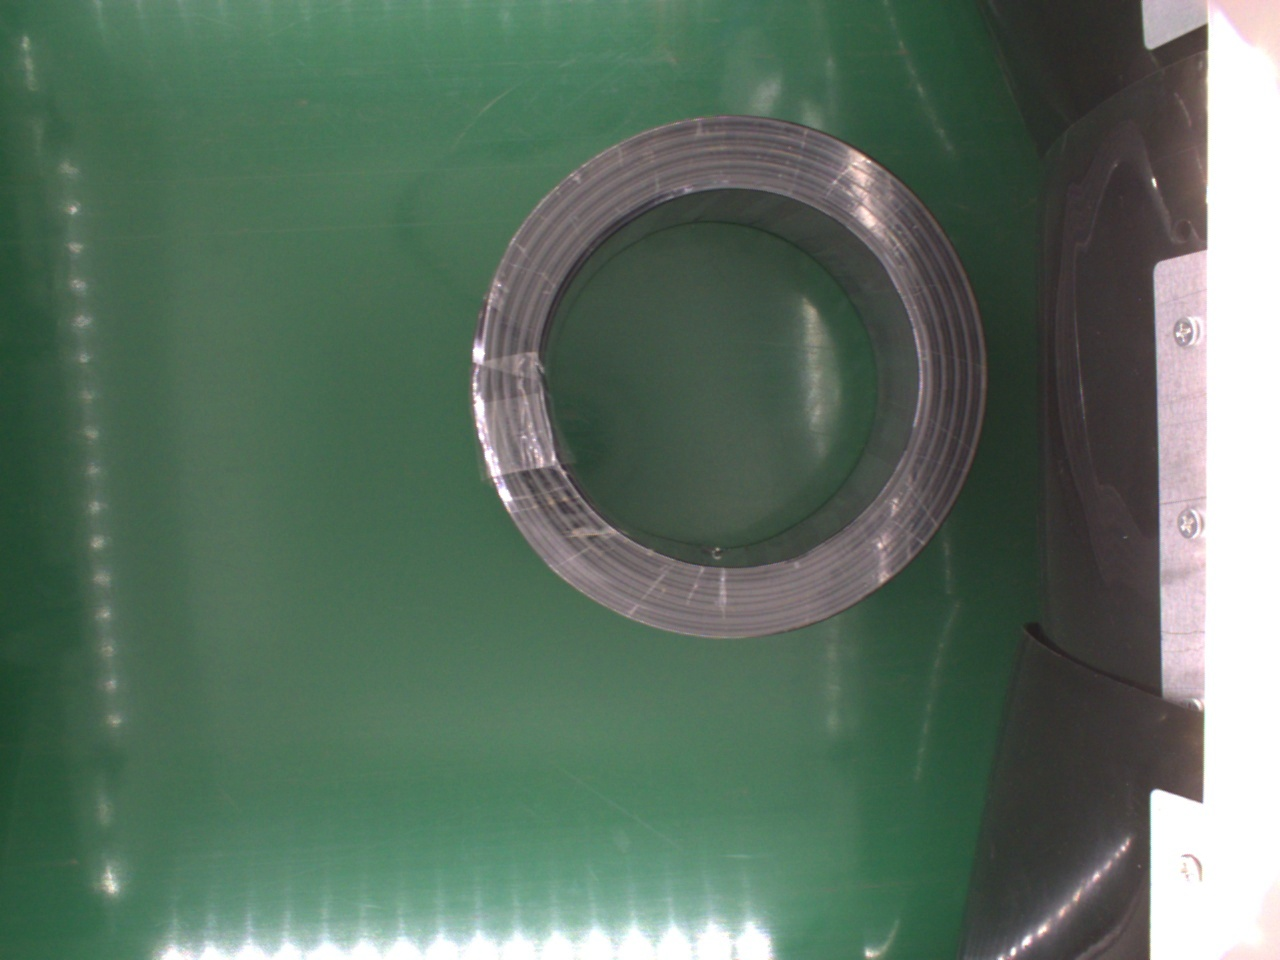black: (471, 115, 989, 641)
